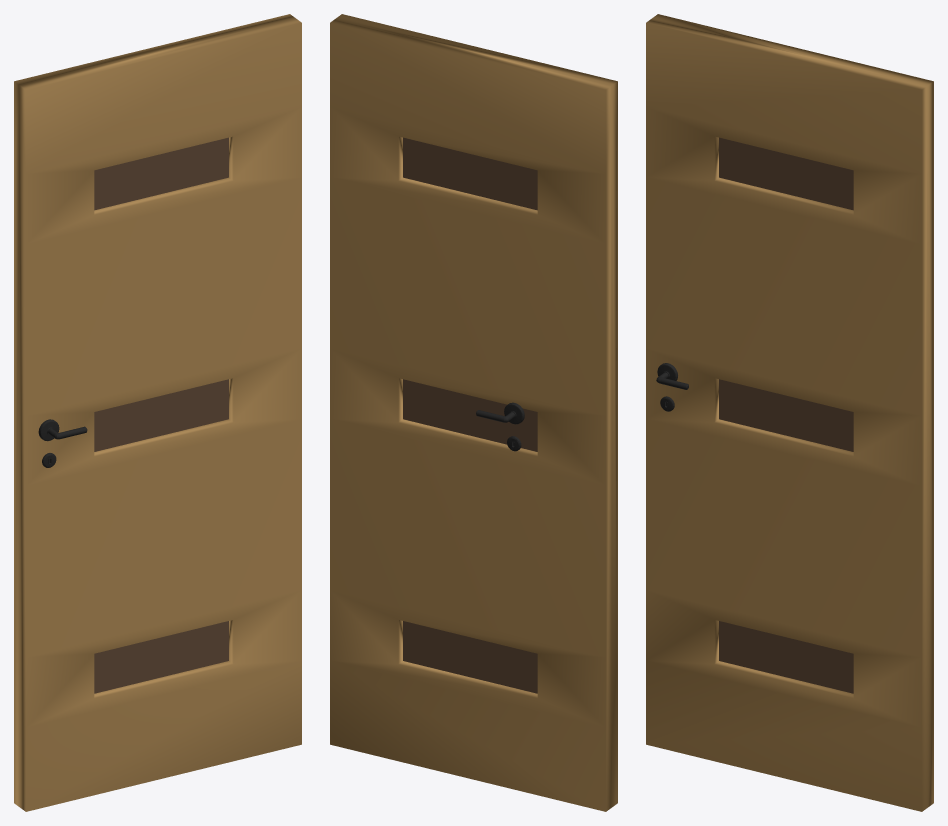
File: 030983c0-7db3-4152-ac66-fdedb30ef3b2.glb
3 views of the same model, side by side, from view 1: azimuth 30°, elevation 25°; view 2: azimuth 150°, elevation 25°; view 3: azimuth 330°, elevation 25° (orthographic).
Parts seen in each view (by area): view 1: Door.001; view 2: Door.001; view 3: Door.001.
Boxes of the visible parts, x1=… form: Door.001: x1=14, y1=14, x2=301, y2=811; Door.001: x1=330, y1=14, x2=617, y2=811; Door.001: x1=646, y1=14, x2=933, y2=811.
Size of what is drawn, in the model's own units: 0.8628 by 2.16 by 0.1816.
Materials: 2 (2 with a texture image).
